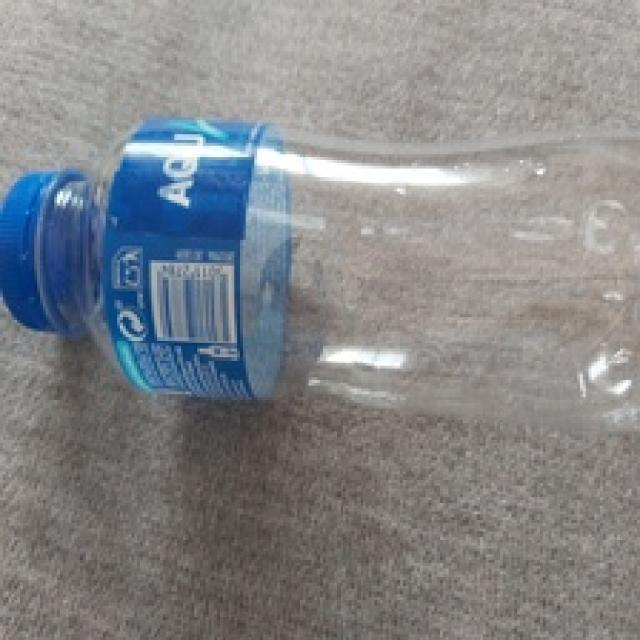Plastic: (0, 113, 640, 430)
